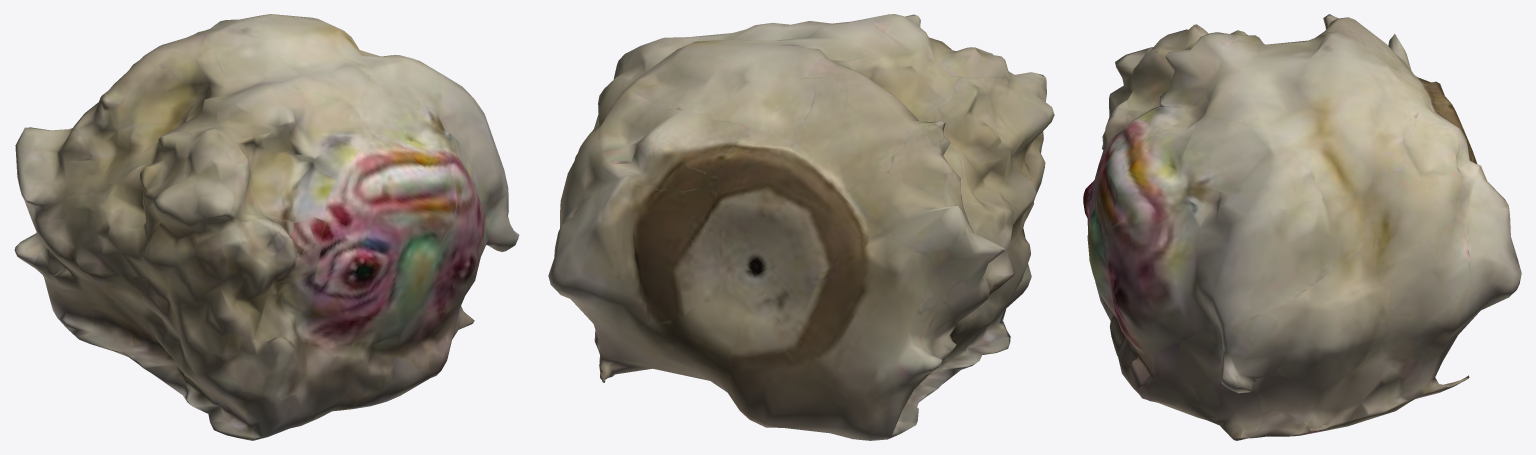
The model's file is hall.glb.
3 renders of one model, left to right at view 1: azimuth 30°, elevation 25°; view 2: azimuth 150°, elevation 25°; view 3: azimuth 270°, elevation 25°, orthographic. The views are drawn at different scales.
Bounding box in the file's own units: 0.7074 × 0.4983 × 0.6222.
1 material, 1 textured.
